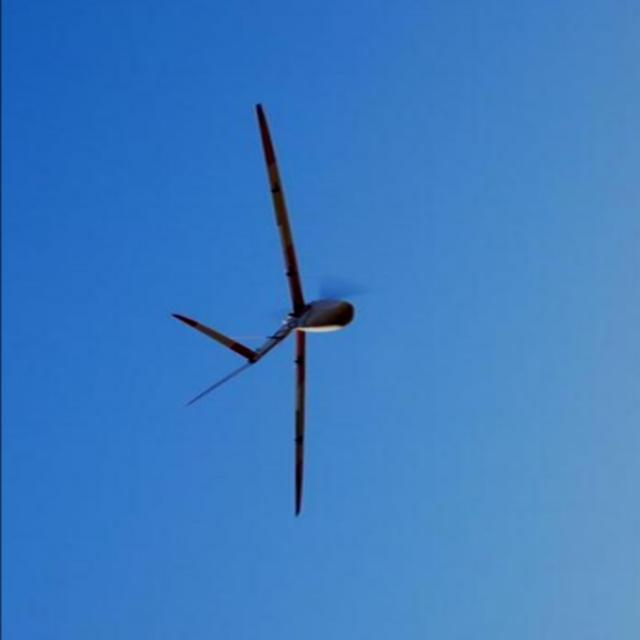plane: (167, 104, 356, 518)
